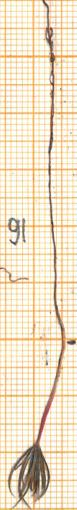flower: (1, 439, 60, 510)
root: (41, 0, 71, 337)
stem: (27, 339, 71, 447)
